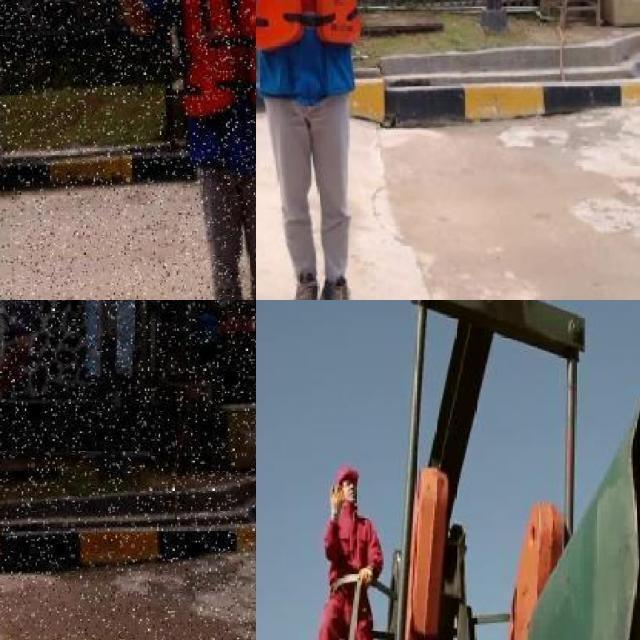apron: (0, 300, 37, 352), (356, 566, 374, 590), (331, 486, 344, 514)
